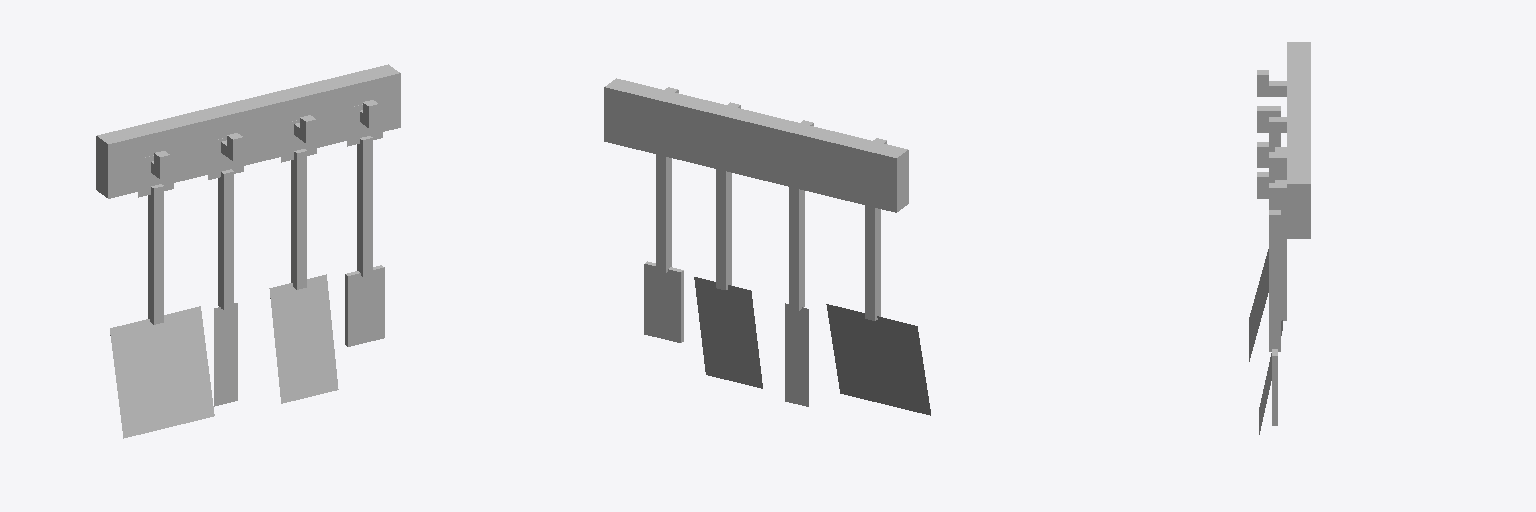
File: 1312_utensil_hooks.obj
3 renders of one model, left to right at view 1: azimuth 30°, elevation 25°; view 2: azimuth 150°, elevation 25°; view 3: azimuth 270°, elevation 25°, orthographic.
Parts seen in each view (by area): view 1: Strip, Blade2, Blade3, Blade4, Blade, Handle, Handle4, Handle3, Handle2, Hookb, Loop4, Loop2 (+2 smaller); view 2: Strip, Blade2, Blade3, Blade4, Blade, Handle, Handle3, Handle4, Handle2; view 3: Strip, Handle4, Blade2, Handle3, Hookb.
Boxes of the visible parts, x1,y1,x2,y2 form: Strip: [96, 64, 400, 198]; Blade2: [110, 306, 214, 438]; Blade3: [269, 274, 338, 403]; Blade4: [345, 265, 384, 346]; Blade: [214, 303, 237, 406]; Handle: [218, 169, 233, 309]; Handle4: [357, 136, 372, 276]; Handle3: [291, 149, 306, 289]; Handle2: [148, 184, 163, 324]; Hookb: [154, 100, 378, 167]; Loop4: [347, 100, 382, 146]; Loop2: [138, 151, 173, 197]; Strip: [604, 78, 908, 212]; Blade2: [826, 304, 930, 415]; Blade3: [694, 277, 762, 388]; Blade4: [644, 261, 683, 342]; Blade: [785, 303, 808, 406]; Handle: [789, 187, 804, 310]; Handle3: [716, 169, 731, 289]; Handle4: [656, 154, 671, 272]; Handle2: [865, 205, 880, 320]; Strip: [1287, 42, 1310, 238]; Handle4: [1269, 210, 1280, 351]; Blade2: [1249, 249, 1268, 361]; Handle3: [1275, 180, 1286, 320]; Hookb: [1257, 70, 1268, 187].
Size of the model in its own units: 1.77 by 1.65 by 0.3222.